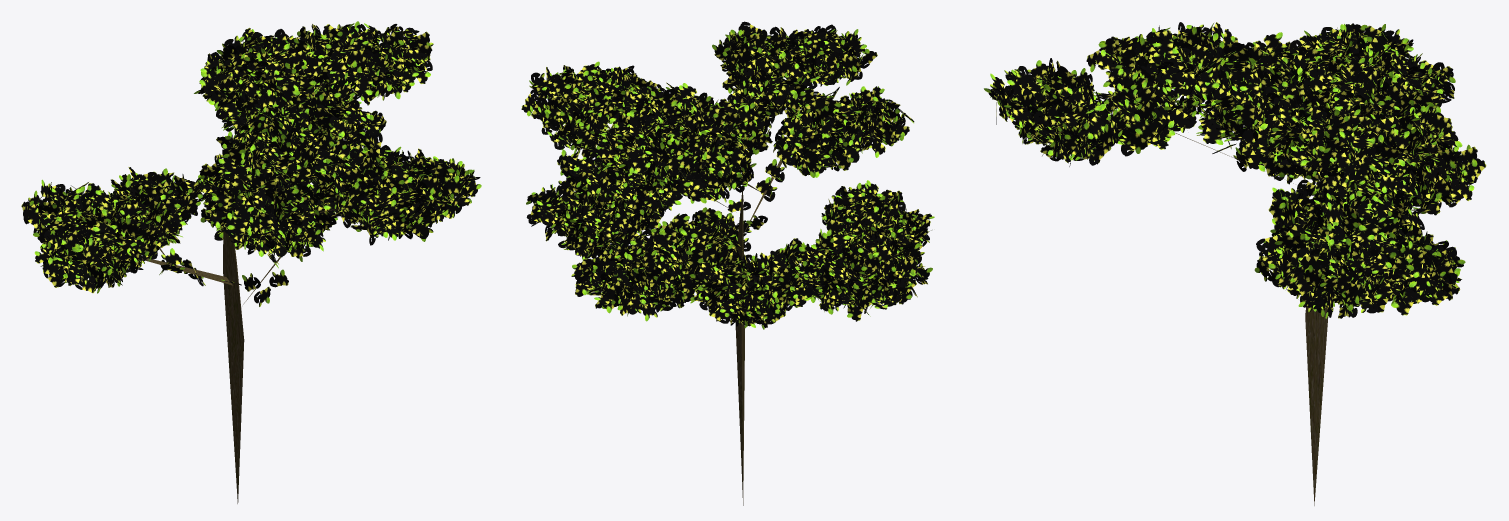
Rendered from acacia_flat_v02_LOD1.fbx.
3 views of the same model, side by side, from view 1: azimuth 30°, elevation 25°; view 2: azimuth 150°, elevation 25°; view 3: azimuth 270°, elevation 25° (orthographic). The views are drawn at different scales.
Visible parts, largest first — view 1: acacia_flat_v02_LOD1; view 2: acacia_flat_v02_LOD1; view 3: acacia_flat_v02_LOD1.
Part boxes in pixels (<box>): acacia_flat_v02_LOD1: <box>21,21,481,503</box>; acacia_flat_v02_LOD1: <box>521,21,934,505</box>; acacia_flat_v02_LOD1: <box>984,22,1486,505</box>.
Bounding box in the file's own units: 1066 × 1008 × 1083.
Materials: 2 (2 with a texture image).
